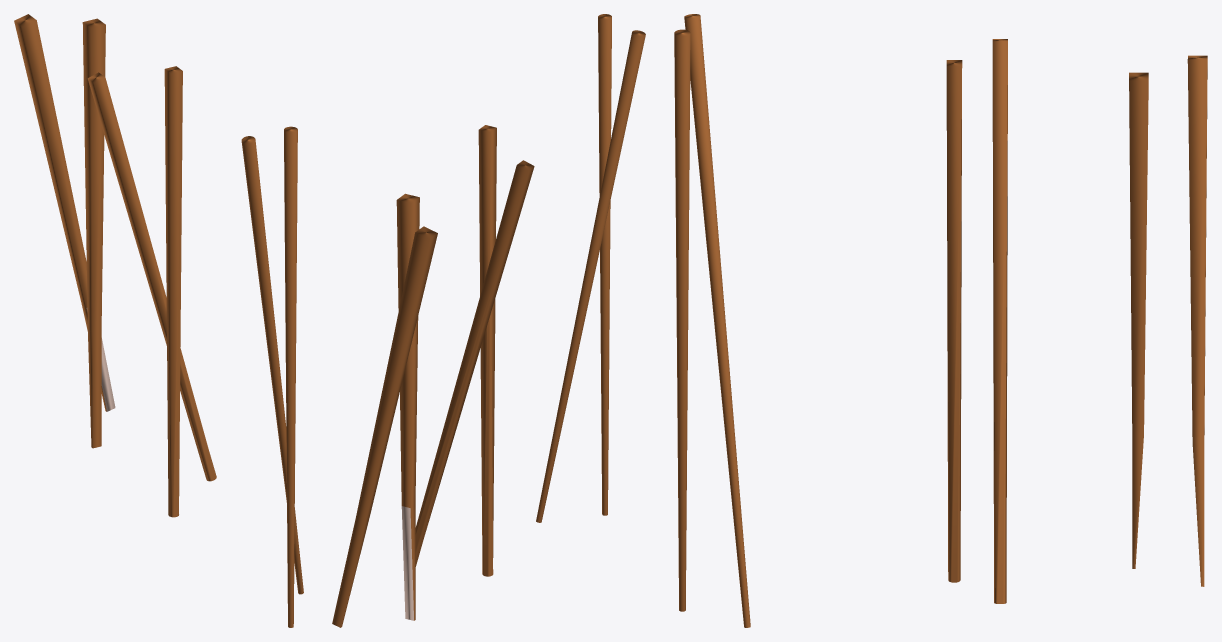
The model's file is chopsticks.glb.
The picture shows the model from 3 angles, left to right: view 1: azimuth 30°, elevation 25°; view 2: azimuth 150°, elevation 25°; view 3: azimuth 270°, elevation 25°; orthographic projection. The views are drawn at different scales.
Visible parts, largest first — view 1: Cube.001, Cube, Cube.003, Cube.002, Cylinder, Cylinder.001; view 2: Cube.003, Cube, Cube.002, Cube.001, Cylinder.001, Cylinder; view 3: Cube.002, Cube.003, Cube, Cylinder.001, Cylinder, Cube.001.
Part boxes in pixels (<box>): Cube.001: <box>82,18,105,448</box>; Cube: <box>164,66,182,517</box>; Cube.003: <box>14,14,115,411</box>; Cube.002: <box>87,72,216,481</box>; Cylinder: <box>284,126,297,627</box>; Cylinder.001: <box>241,136,303,594</box>; Cube.003: <box>332,226,437,627</box>; Cube: <box>478,125,496,576</box>; Cube.002: <box>415,160,534,566</box>; Cube.001: <box>396,193,419,620</box>; Cylinder.001: <box>536,30,645,522</box>; Cylinder: <box>598,14,611,515</box>; Cube.002: <box>992,39,1007,603</box>; Cube.003: <box>1187,55,1207,586</box>; Cube: <box>946,60,962,582</box>; Cylinder.001: <box>684,14,750,627</box>; Cylinder: <box>674,29,690,611</box>; Cube.001: <box>1129,72,1148,568</box>.
Size of the model in its own units: 8.55 by 32.45 by 27.18.
